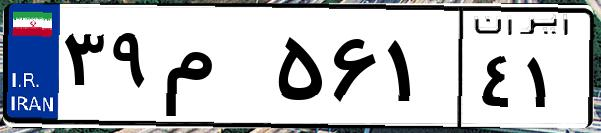1: (385, 28, 445, 110), (525, 38, 570, 115)
3: (57, 26, 110, 100)
4: (475, 38, 525, 113)
5: (270, 28, 330, 110)
6: (330, 28, 385, 110)
9: (110, 28, 158, 98)
م: (158, 20, 270, 120)
